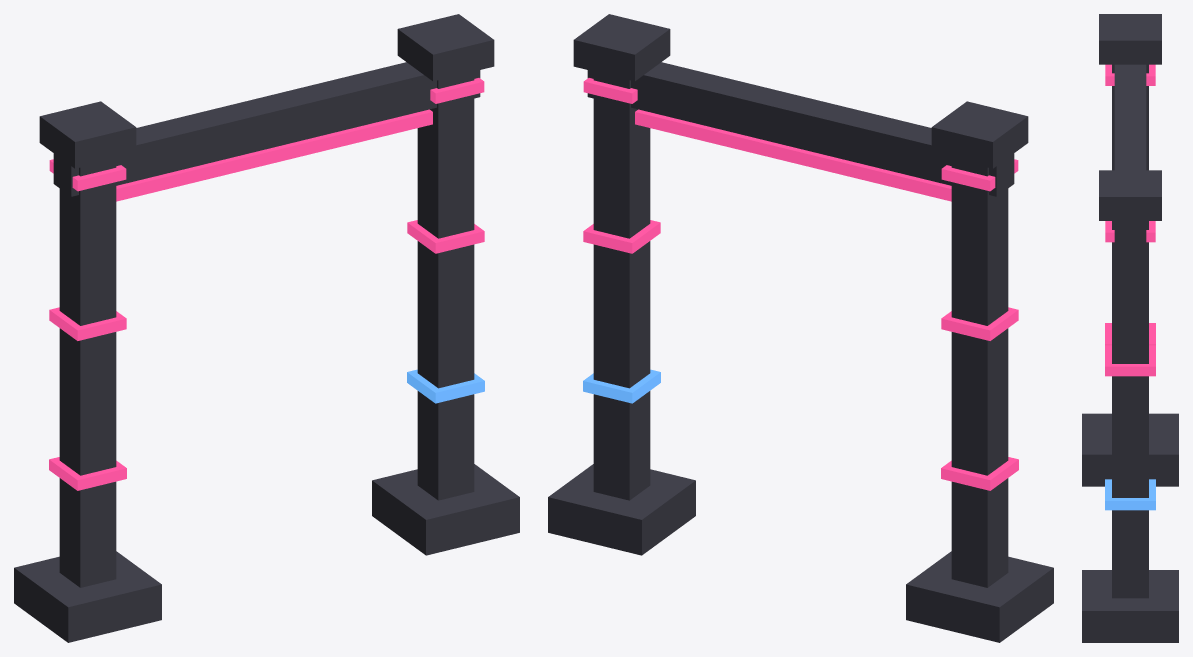
File: runtime.glb
The picture shows the model from 3 angles, left to right: view 1: azimuth 30°, elevation 25°; view 2: azimuth 150°, elevation 25°; view 3: azimuth 270°, elevation 25°; orthographic projection. The views are drawn at different scales.
Visible parts, largest first — view 1: neon_pylon_post_nocol, neon_pylon_band_red_noshadow_nocol, neon_pylon_band_blue_noshadow_nocol; view 2: neon_pylon_post_nocol, neon_pylon_band_red_noshadow_nocol, neon_pylon_band_blue_noshadow_nocol; view 3: neon_pylon_post_nocol, neon_pylon_band_red_noshadow_nocol, neon_pylon_band_blue_noshadow_nocol.
Part boxes in pixels (x1,y1,x2,y2): neon_pylon_post_nocol: (14,14,519,642); neon_pylon_band_red_noshadow_nocol: (49,78,484,490); neon_pylon_band_blue_noshadow_nocol: (407,369,484,403); neon_pylon_post_nocol: (548,14,1053,642); neon_pylon_band_red_noshadow_nocol: (583,78,1018,490); neon_pylon_band_blue_noshadow_nocol: (583,369,660,403); neon_pylon_post_nocol: (1082,14,1178,642); neon_pylon_band_red_noshadow_nocol: (1105,64,1155,376); neon_pylon_band_blue_noshadow_nocol: (1105,479,1155,510).
Size of the model in its own units: 5.3 by 5.49 by 1.1.
